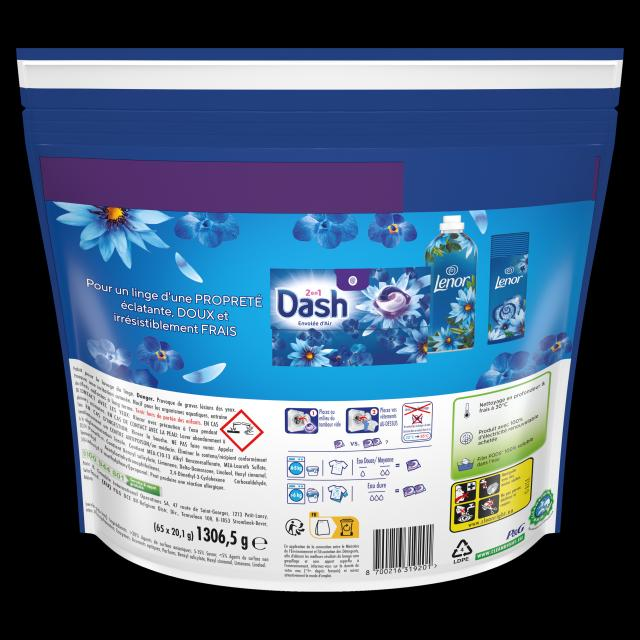GHS_Symbol_CORROSION: (220, 409, 264, 452)
